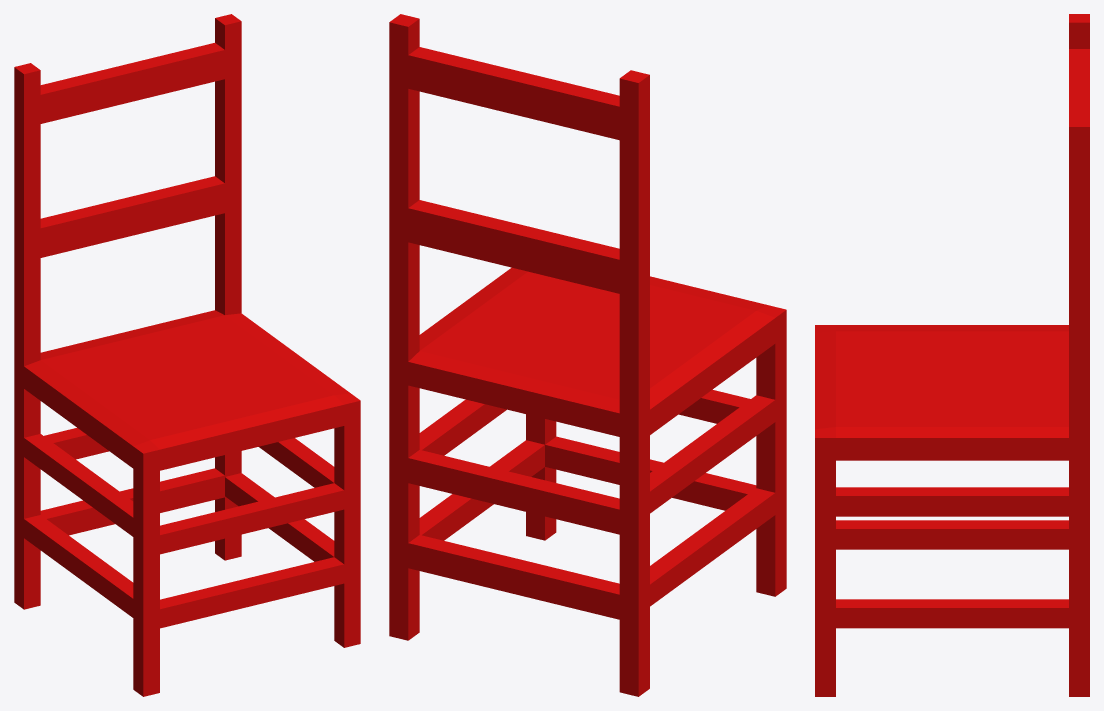
The model's file is cube.437_lev3.glb.
The picture shows the model from 3 angles, left to right: view 1: azimuth 30°, elevation 25°; view 2: azimuth 150°, elevation 25°; view 3: azimuth 270°, elevation 25°; orthographic projection. The views are drawn at different scales.
Parts seen in each view (by area): view 1: cube.437_lev3; view 2: cube.437_lev3; view 3: cube.437_lev3.
Part boxes in pixels (x1,y1,x2,y2): cube.437_lev3: (14, 14, 360, 696); cube.437_lev3: (389, 14, 786, 696); cube.437_lev3: (815, 14, 1089, 696).
Size of the model in its own units: 0.3303 by 0.7772 by 0.3398.
